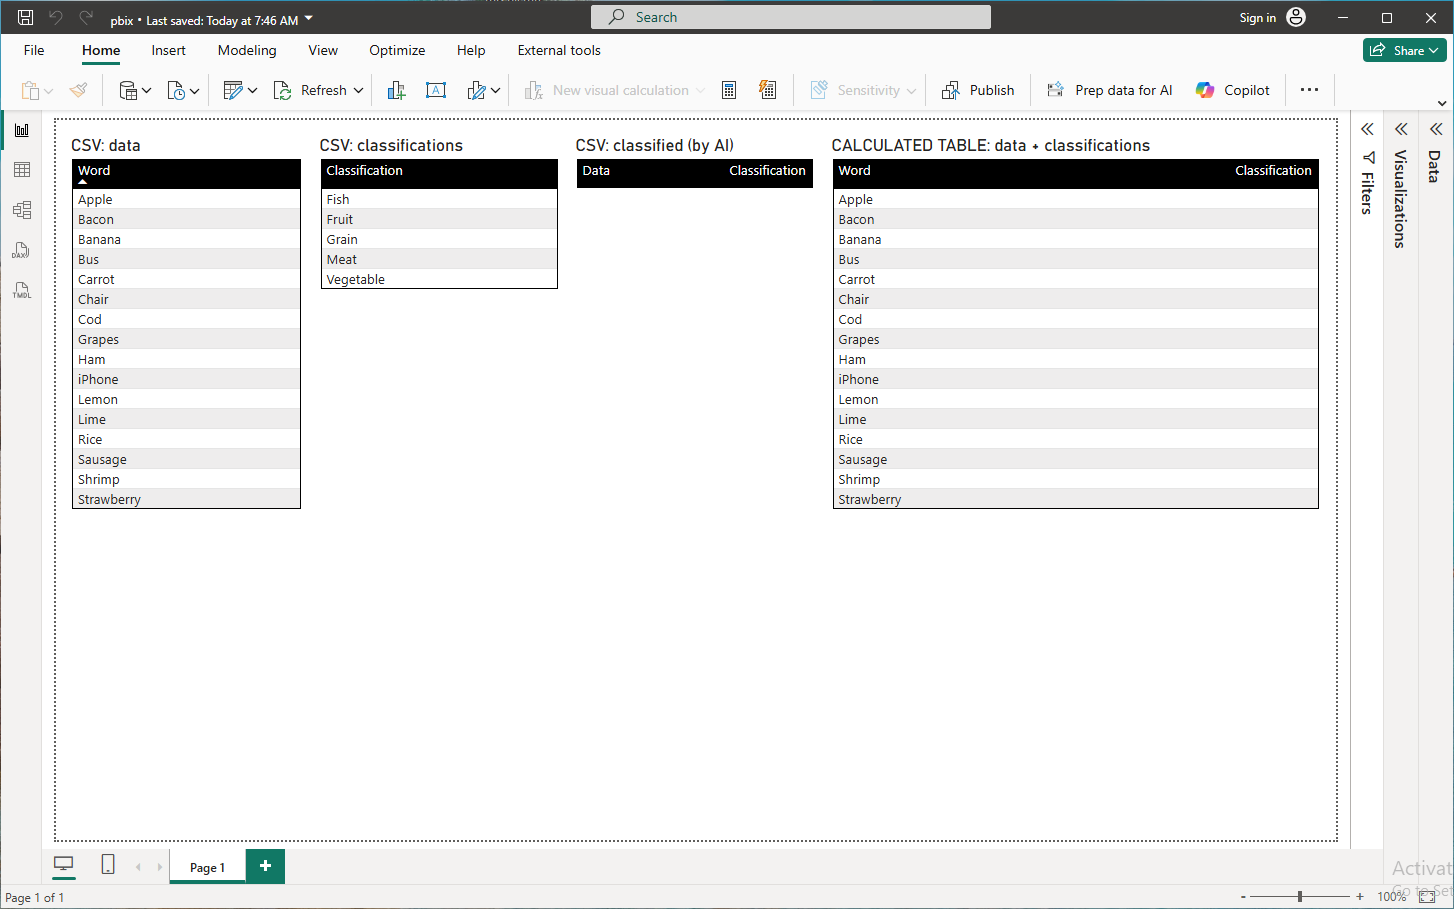

What the dashboard file says about the page in this screenshot:
{"tool":"powerbi","page":{"name":"Page 1","canvas":[1280,720],"ordinal":0},"visuals":[{"type":"tableEx","title":"CSV: data","fields":{"Values":["data.Word"]},"box":[0,0,256,720],"z":0},{"type":"tableEx","title":"CSV: classifications","fields":{"Values":["classifications.Classification"]},"box":[256,0,256,720],"z":1000},{"type":"tableEx","title":"CSV: classified (by AI)","fields":{"Values":["classified.Data","classified.Classification"]},"box":[512,0,256,720],"z":2000},{"type":"tableEx","title":"CALCULATED TABLE: data + classifications","fields":{"Values":["data.Word","classifications.Classification"]},"box":[768,0,512,720],"z":3000}]}

Visuals, with their boxes on the page's 1280x720 design canvas (x1, y1, x2, y2). These are canvas units, not pixel positions in the 1454x909 screenshot, which may show the page scaled, cropped or inside an application window:
"CSV: data" tableEx: [x1=0, y1=0, x2=256, y2=720]
"CSV: classifications" tableEx: [x1=256, y1=0, x2=512, y2=720]
"CSV: classified (by AI)" tableEx: [x1=512, y1=0, x2=768, y2=720]
"CALCULATED TABLE: data + classifications" tableEx: [x1=768, y1=0, x2=1280, y2=720]
